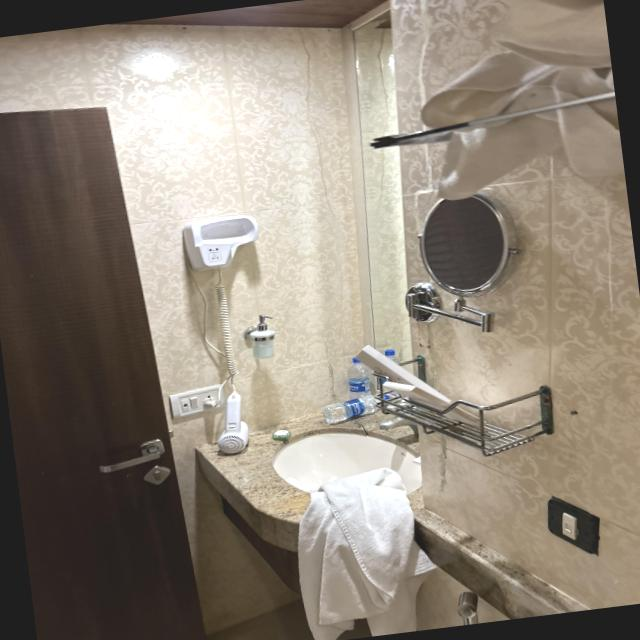mess: (193, 339, 432, 640), (357, 10, 631, 259), (306, 294, 604, 490)
